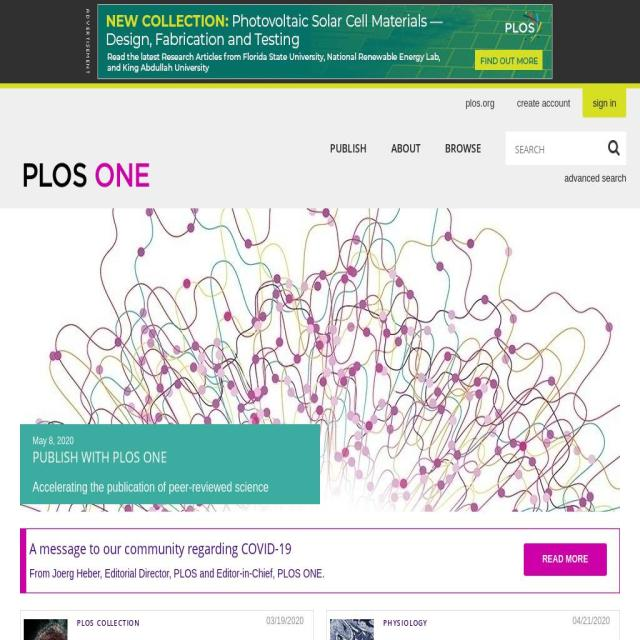button: (20, 352, 620, 366), (380, 165, 432, 259), (380, 468, 432, 544), (506, 165, 626, 192), (523, 543, 608, 577), (507, 84, 581, 118), (380, 259, 432, 301), (380, 384, 432, 426), (380, 544, 432, 586), (380, 301, 432, 342), (380, 343, 432, 384), (380, 426, 432, 467), (380, 586, 432, 627), (455, 84, 505, 118), (582, 84, 626, 118), (24, 619, 74, 640), (330, 619, 380, 640), (380, 627, 432, 640)
field: (512, 137, 606, 161)
heading: (20, 158, 632, 192), (29, 534, 613, 564), (29, 566, 613, 582), (32, 446, 167, 466), (383, 636, 607, 640), (77, 636, 213, 640)
iframe: (98, 4, 552, 79)
image: (20, 208, 620, 512), (23, 619, 68, 640), (330, 619, 374, 640)
text: (32, 479, 308, 496), (32, 433, 308, 449), (383, 615, 610, 631), (433, 132, 492, 168), (86, 4, 98, 78), (77, 617, 140, 629), (330, 140, 367, 156), (266, 615, 304, 628), (572, 615, 610, 628), (391, 140, 421, 156)
